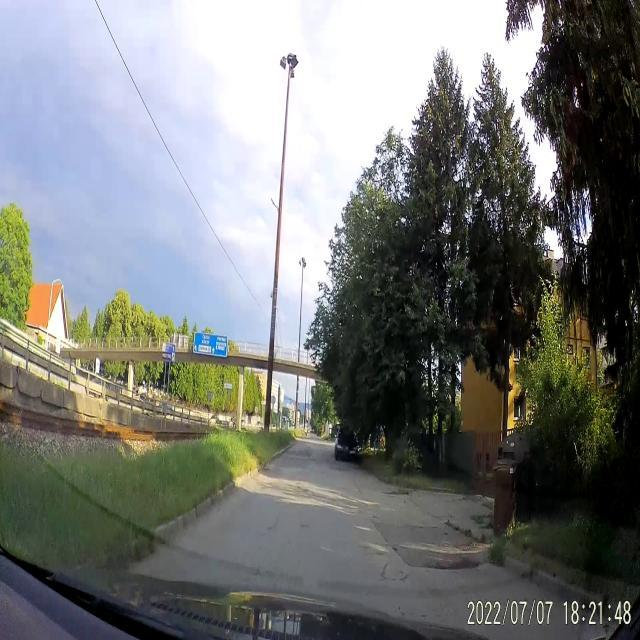Pothole: (402, 550, 493, 580), (384, 485, 411, 502)
